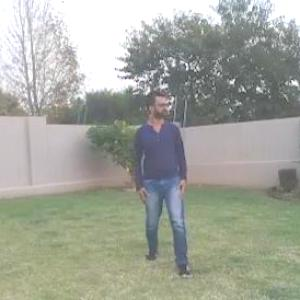follow: (136, 78, 189, 260)
